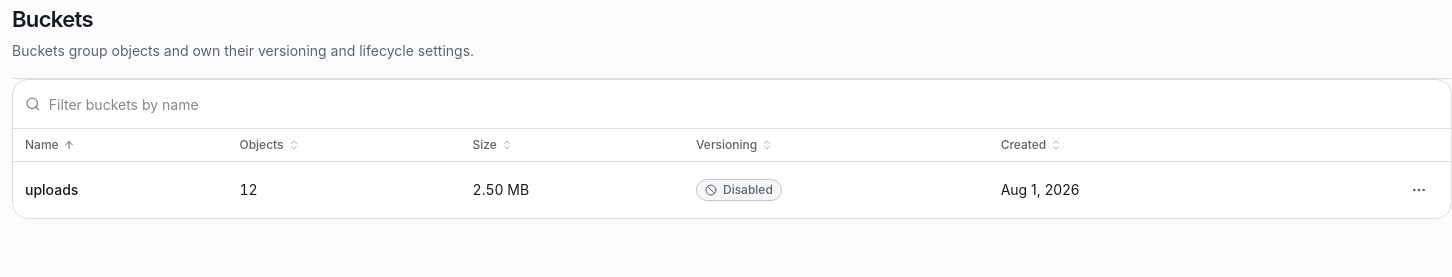
Test: BucketsScreen › offers no destructive actions to a role that cannot perform them
Expected: the link "uploads" is shown, [25, 181, 78, 198]
Click the button named "actions for uploads" at [1419, 190], box [1399, 170, 1439, 210]
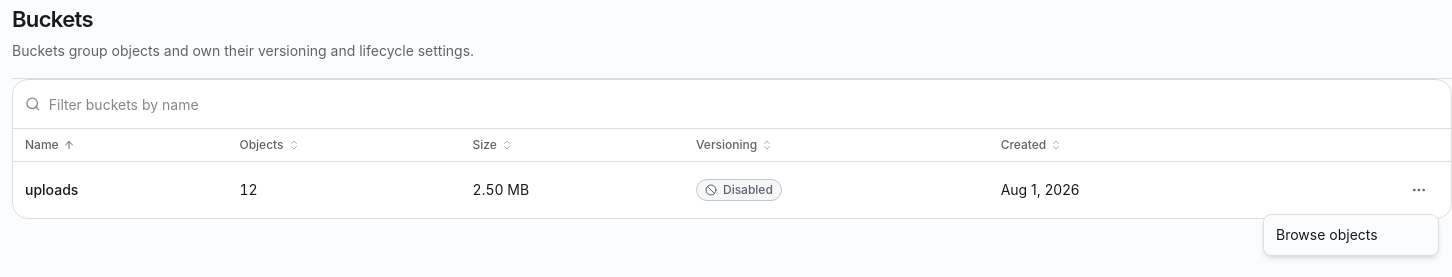
Expected: the menu item "Browse objects" is shown, [1276, 226, 1378, 243]
